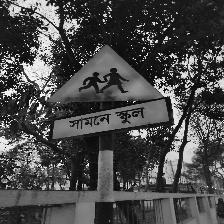School-in-front: (46, 44, 172, 140)
